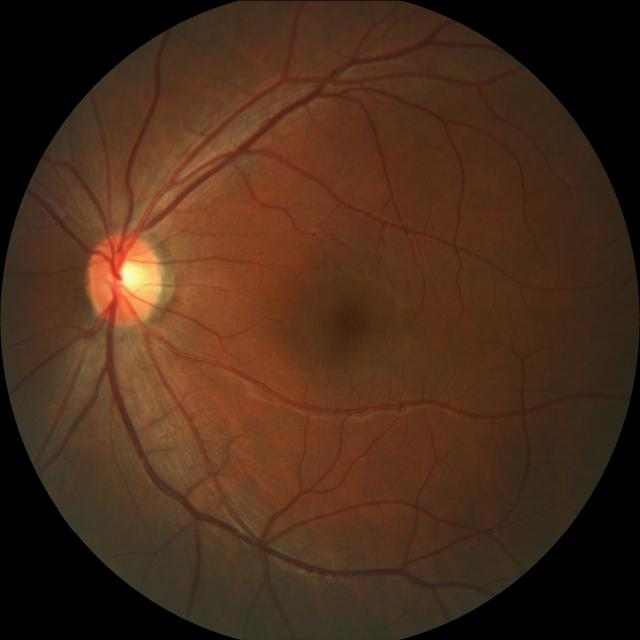OC: (106, 254, 147, 296)
OD: (88, 230, 165, 324)
